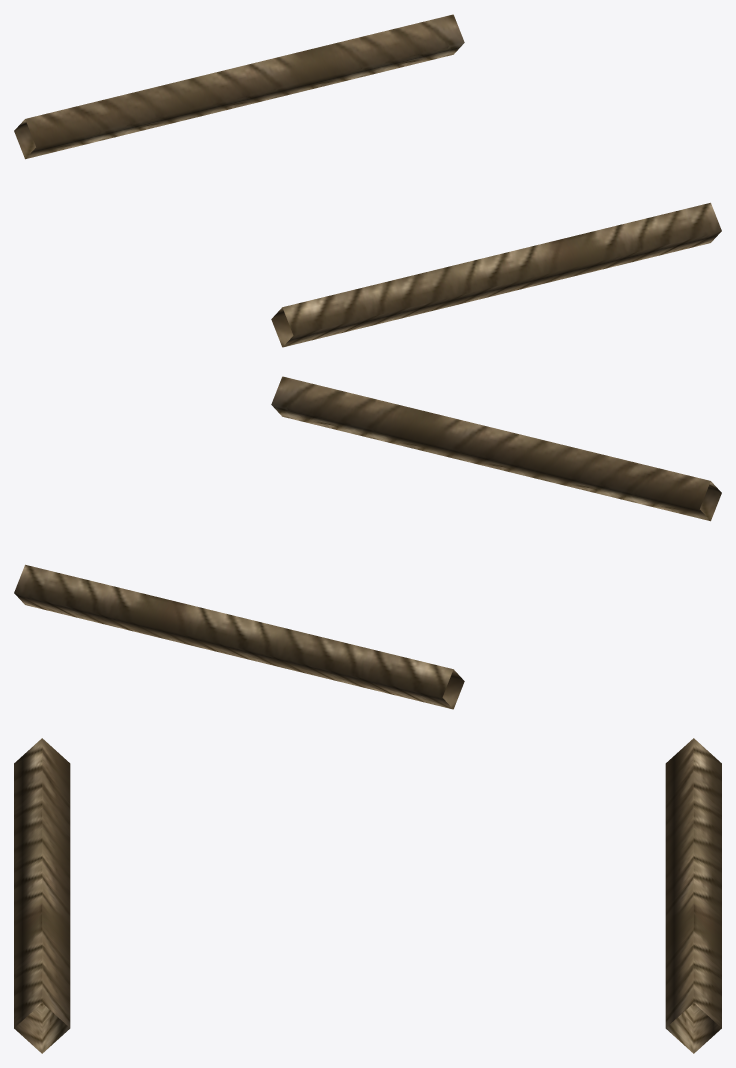
The model's file is rope_bridge_holding_1.fbx.
3 views of the same model, one above another, from view 1: azimuth 30°, elevation 25°; view 2: azimuth 150°, elevation 25°; view 3: azimuth 270°, elevation 25° (orthographic). The views are drawn at different scales.
Parts seen in each view (by area): view 1: rope_bridge_holding_1; view 2: rope_bridge_holding_1; view 3: rope_bridge_holding_1.
Boxes of the visible parts, x1=… form: rope_bridge_holding_1: x1=14, y1=14, x2=721, y2=347; rope_bridge_holding_1: x1=14, y1=376, x2=721, y2=709; rope_bridge_holding_1: x1=14, y1=738, x2=721, y2=1053.
Bounding box in the file's own units: 100 × 9 × 113.
